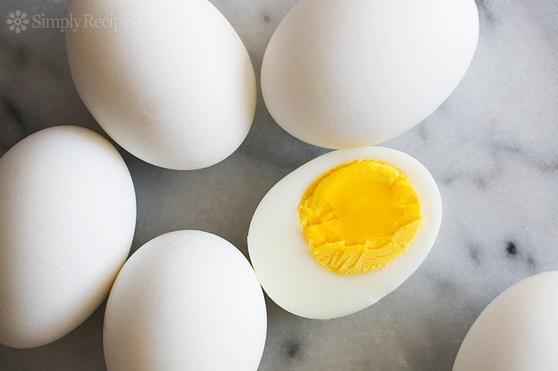egg: (100, 226, 268, 368)
